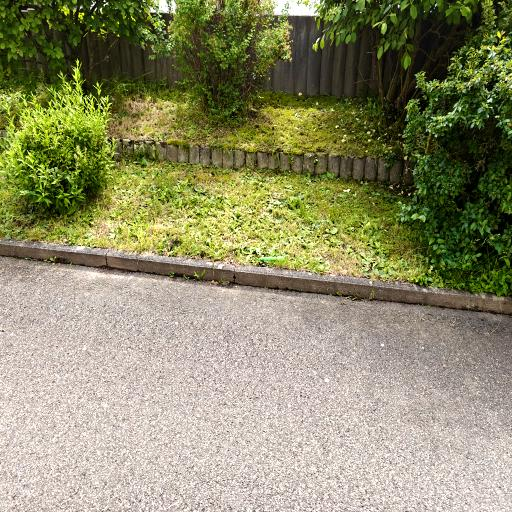Probe-Detection: (259, 256, 285, 261)
